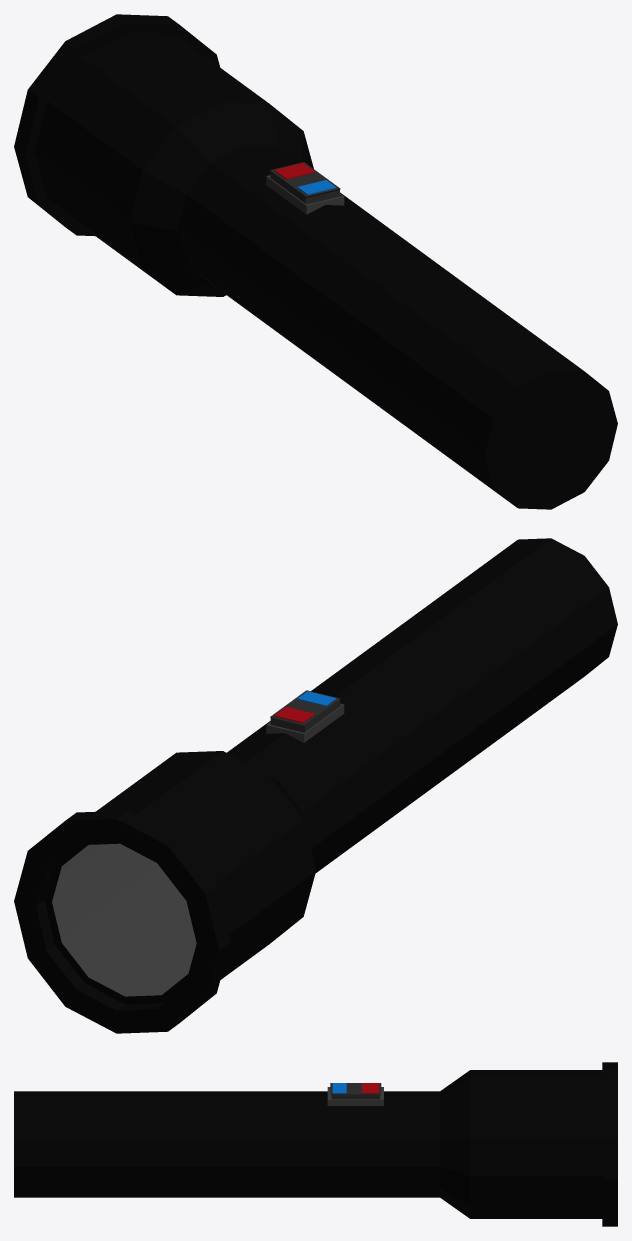
Rendered from Lanterna.dae.
The picture shows the model from 3 angles, top to bottom: view 1: azimuth 30°, elevation 25°; view 2: azimuth 150°, elevation 25°; view 3: azimuth 270°, elevation 25°; orthographic projection. The views are drawn at different scales.
Parts seen in each view (by area): view 1: Lanterna, Botao, FundoBotao; view 2: Lanterna, Botao, FundoBotao; view 3: Lanterna, Botao, FundoBotao.
Boxes of the visible parts, left/top/right/bottom form: Lanterna: left=14, top=14, right=617, bottom=509; Botao: left=270, top=162, right=340, bottom=204; FundoBotao: left=266, top=175, right=344, bottom=214; Lanterna: left=14, top=538, right=617, bottom=1033; Botao: left=270, top=690, right=340, bottom=732; FundoBotao: left=266, top=703, right=344, bottom=742; Lanterna: left=14, top=1062, right=617, bottom=1226; Botao: left=330, top=1083, right=381, bottom=1099; FundoBotao: left=327, top=1087, right=383, bottom=1105.
Bounding box in the file's own units: 1.54 × 5.65 × 1.54.
